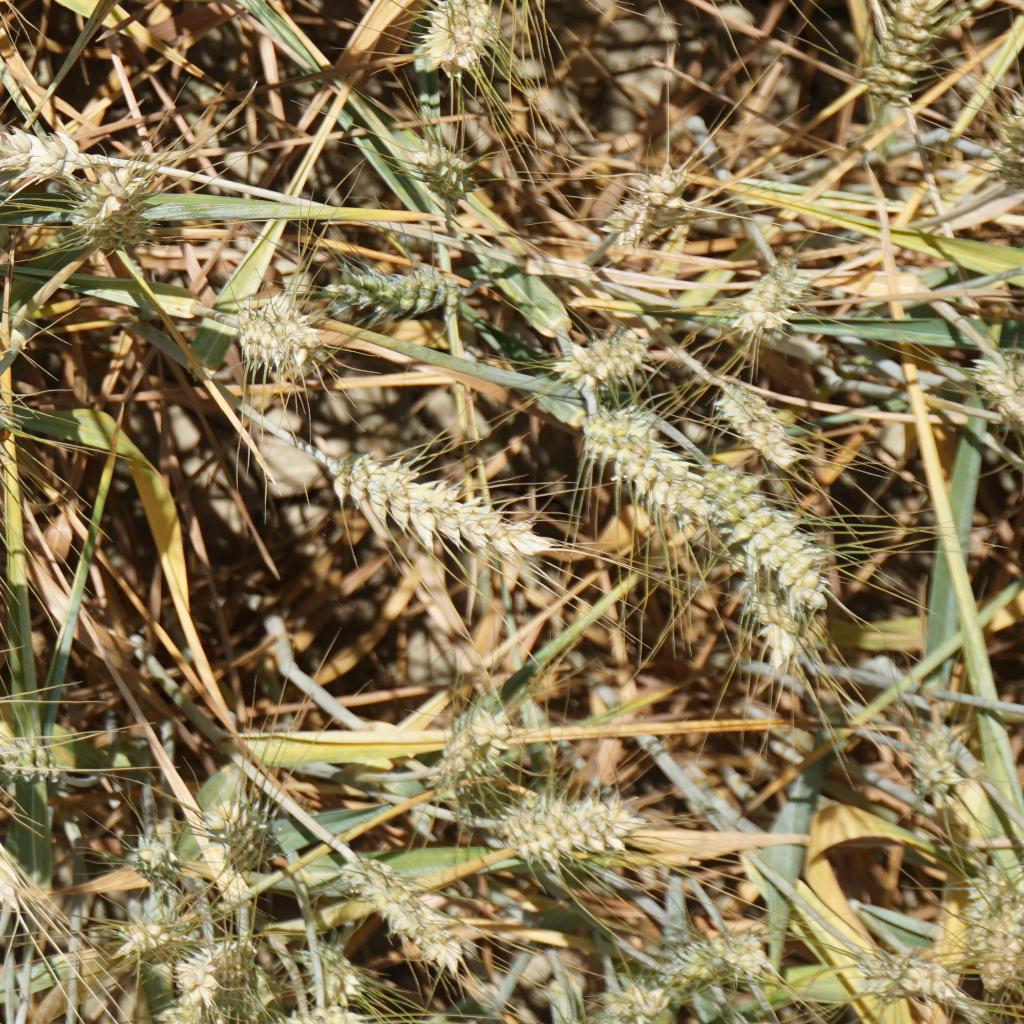0-0: (302, 444, 557, 564), (700, 473, 824, 605), (569, 400, 704, 516), (482, 784, 654, 872), (338, 849, 458, 968), (323, 247, 467, 333), (860, 0, 954, 119), (433, 701, 519, 807), (592, 165, 693, 253), (705, 382, 803, 471), (738, 580, 820, 679), (955, 872, 1022, 993), (551, 309, 651, 390), (58, 168, 159, 248), (231, 294, 328, 377), (206, 792, 288, 880), (843, 940, 952, 1005), (414, 0, 507, 75), (660, 927, 765, 989), (736, 260, 815, 335), (214, 931, 275, 1015), (0, 97, 69, 171), (409, 141, 477, 211), (0, 724, 59, 796), (299, 934, 366, 995), (904, 726, 964, 791), (977, 351, 1024, 431), (181, 944, 235, 1007), (593, 977, 665, 1024), (128, 899, 180, 956), (984, 103, 1024, 175), (131, 834, 183, 883)
